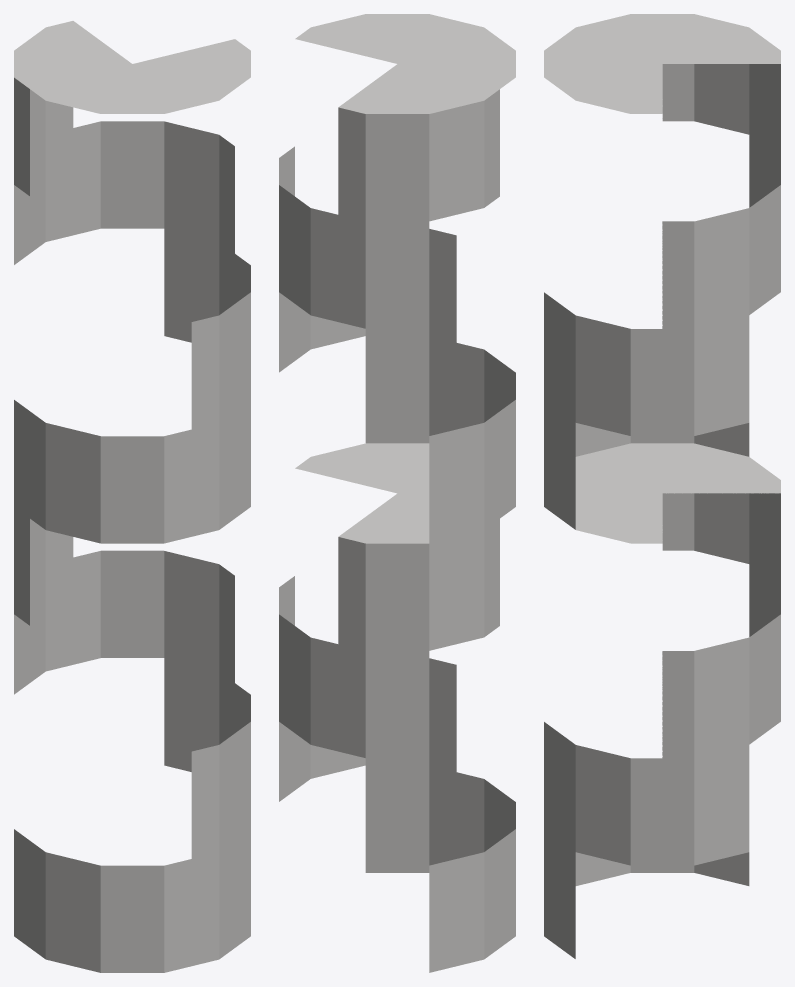
The model's file is Feder.fbx.
3 renders of one model, left to right at view 1: azimuth 30°, elevation 25°; view 2: azimuth 150°, elevation 25°; view 3: azimuth 270°, elevation 25°, orthographic.
Parts seen in each view (by area): view 1: cylinder_1, cylinder; view 2: cylinder_1, cylinder; view 3: cylinder_1, cylinder.
Part boxes in pixels (x1=…): cylinder_1: x1=14, y1=21, x2=250, y2=543; cylinder: x1=14, y1=507, x2=250, y2=972; cylinder_1: x1=279, y1=14, x2=515, y2=543; cylinder: x1=279, y1=443, x2=515, y2=972; cylinder_1: x1=544, y1=14, x2=780, y2=529; cylinder: x1=544, y1=443, x2=780, y2=958.
Size of the model in its own units: 12.5 by 50 by 12.5.
1 material, 1 textured.
